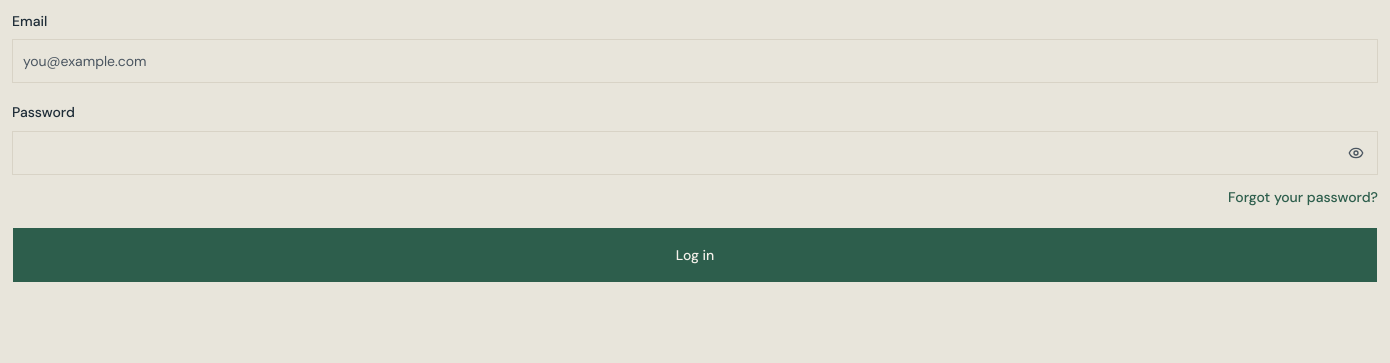
Test case: LoginForm › asks unverified users to confirm their email first
This screenshot has width=1390, height=363.
In the field labelled "Email": (695, 61) [12,39,1378,83], type "new@example.com"
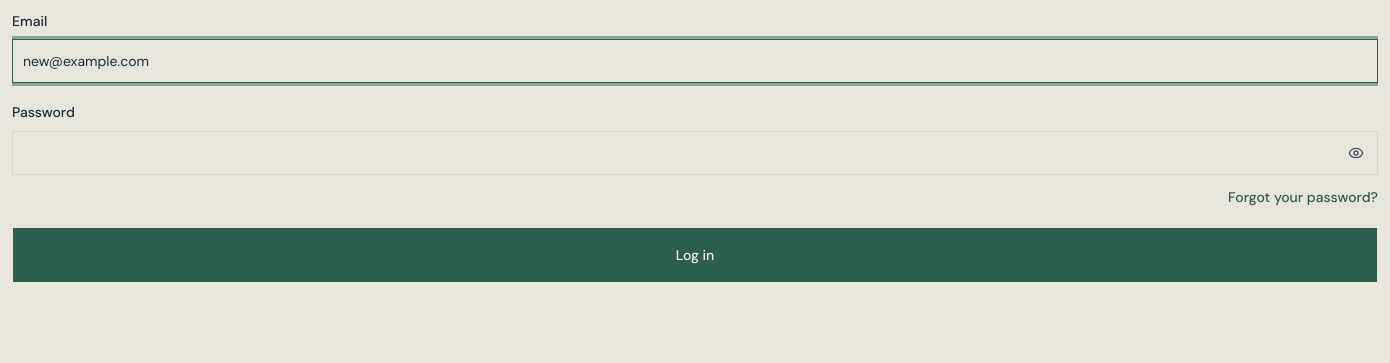
In the password field labelled "Password": (695, 152) [12,130,1378,174], type "correct horse"
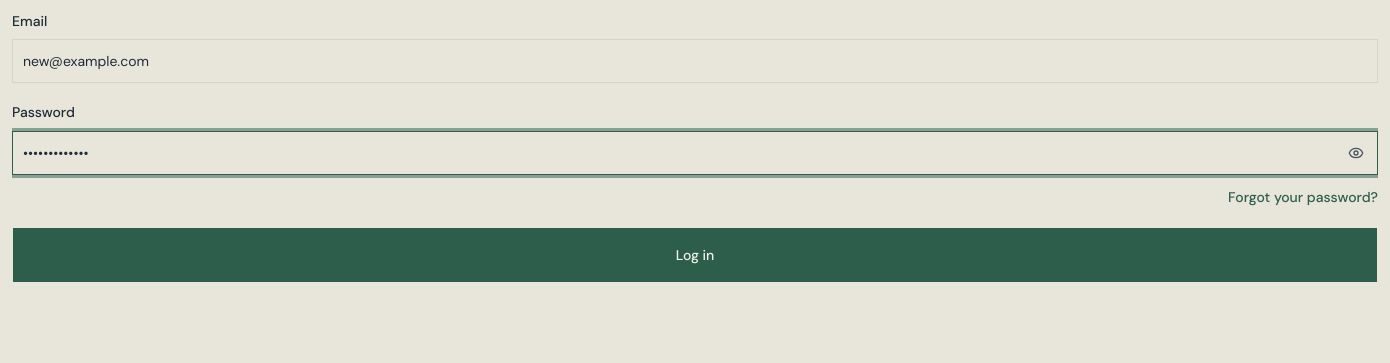
Click the button "Log in": click(695, 254) [12,226,1378,282]
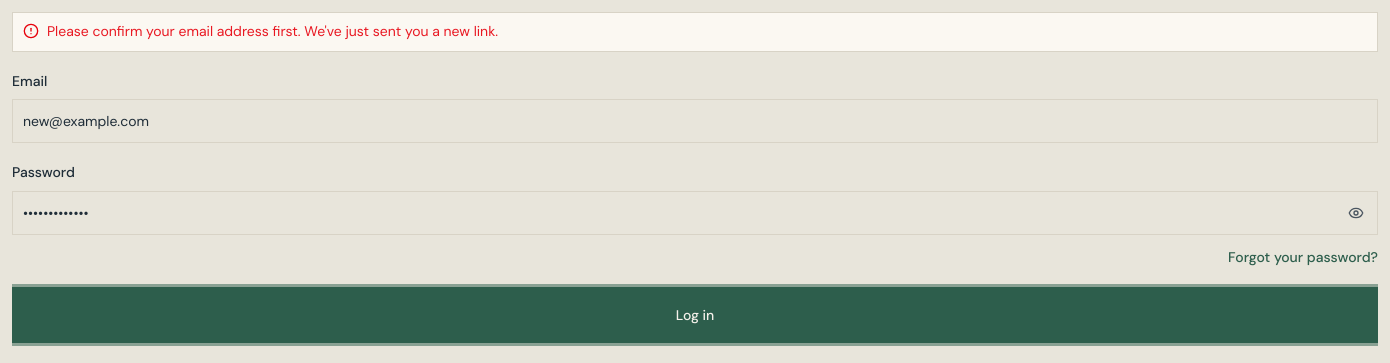
expect the message reads "Please confirm your email address first. We've just sent you a new link.": met, box [47,22,498,40]
